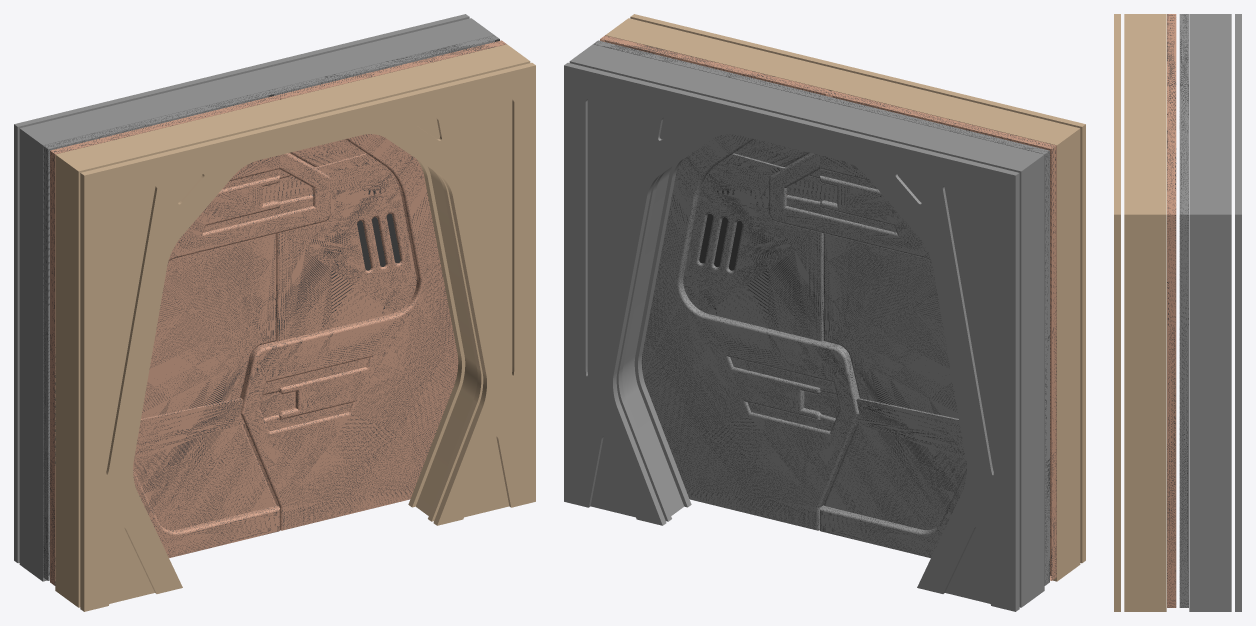
The model's file is door.dae.
3 views of the same model, side by side, from view 1: azimuth 30°, elevation 25°; view 2: azimuth 150°, elevation 25°; view 3: azimuth 270°, elevation 25° (orthographic). The views are drawn at different scales.
Visible parts, largest first — view 1: archway_half (×3), left_door_half (×2), cargo_arch (×2), right_door_half (×2), archway_half_1, right_door_half_1; view 2: archway_half_1 (×3), left_door_half (×2), cargo_arch (×2), right_door_half_1 (×2), archway_half, right_door_half; view 3: cargo_arch (×2), left_door_half (×2), archway_half_1, archway_half, right_door_half, right_door_half_1.
Part boxes in pixels (left/top/right/bottom): archway_half (×3): left=80, top=62, right=535, bottom=611; left_door_half (×2): left=240, top=35, right=506, bottom=530; cargo_arch (×2): left=19, top=18, right=530, bottom=607; right_door_half (×2): left=50, top=95, right=330, bottom=585; archway_half_1: left=14, top=14, right=469, bottom=563; right_door_half_1: left=43, top=91, right=313, bottom=580; archway_half_1 (×3): left=564, top=62, right=1019, bottom=611; left_door_half (×2): left=593, top=35, right=859, bottom=530; cargo_arch (×2): left=569, top=18, right=1080, bottom=607; right_door_half_1 (×2): left=769, top=95, right=1049, bottom=585; archway_half: left=630, top=14, right=1085, bottom=563; right_door_half: left=786, top=91, right=1056, bottom=580; cargo_arch (×2): left=1124, top=14, right=1231, bottom=611; left_door_half (×2): left=1167, top=114, right=1188, bottom=607; archway_half_1: left=1235, top=14, right=1241, bottom=611; archway_half: left=1114, top=14, right=1120, bottom=611; right_door_half: left=1167, top=14, right=1176, bottom=114; right_door_half_1: left=1179, top=14, right=1188, bottom=114.
Bounding box in the file's own units: 104 × 28 × 96.
